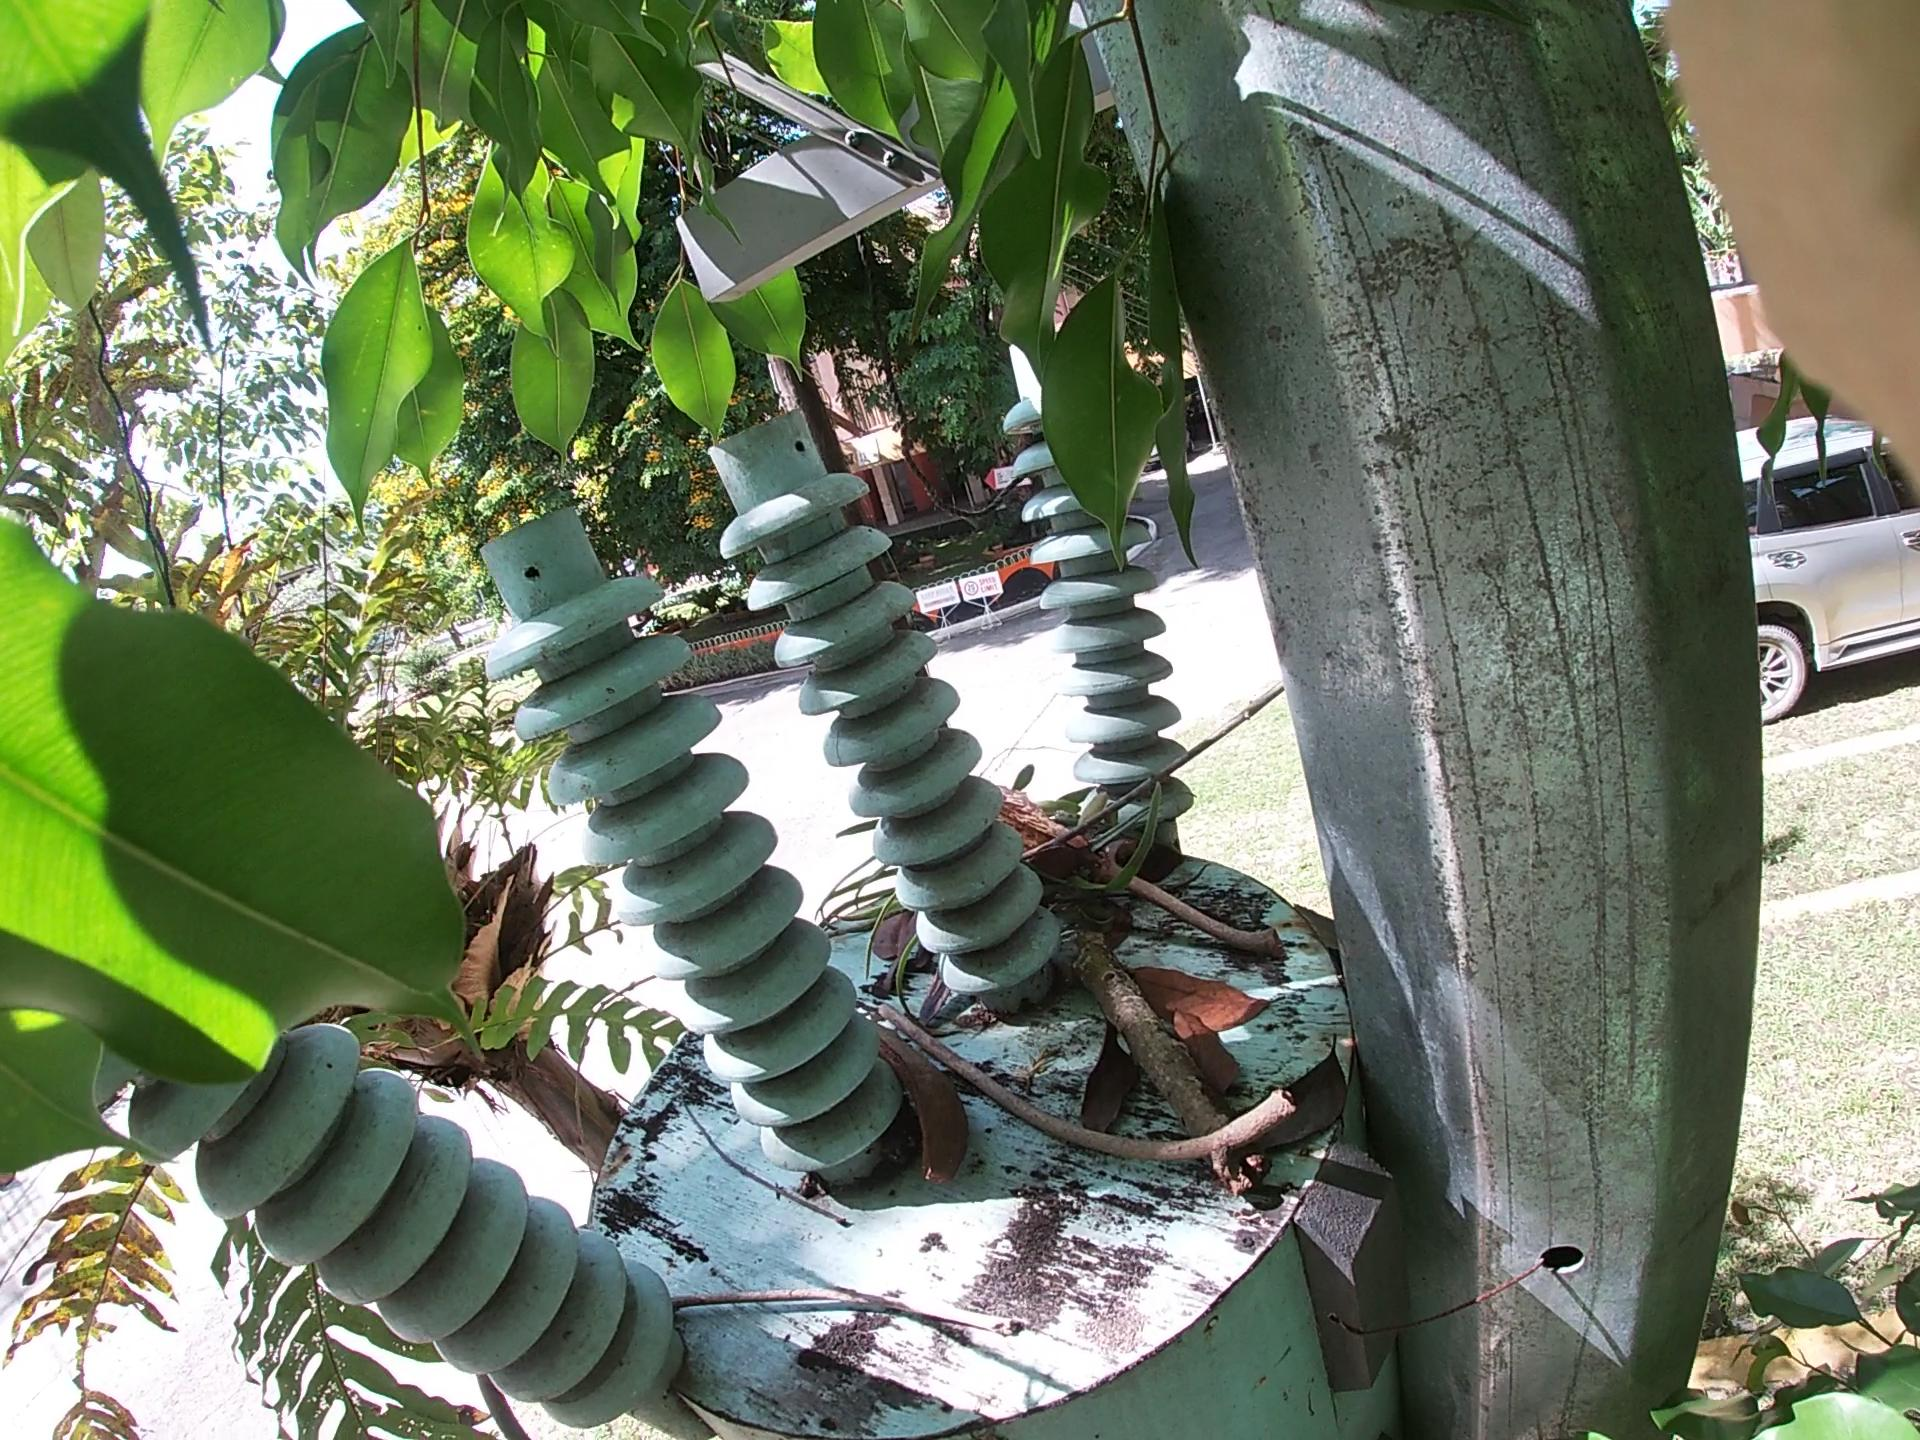branch with leaves: (983, 800, 1303, 1240)
leaf: (1072, 914, 1284, 1166)
tree branch: (877, 971, 1465, 1190), (980, 777, 1250, 939), (485, 1277, 1101, 1313)
